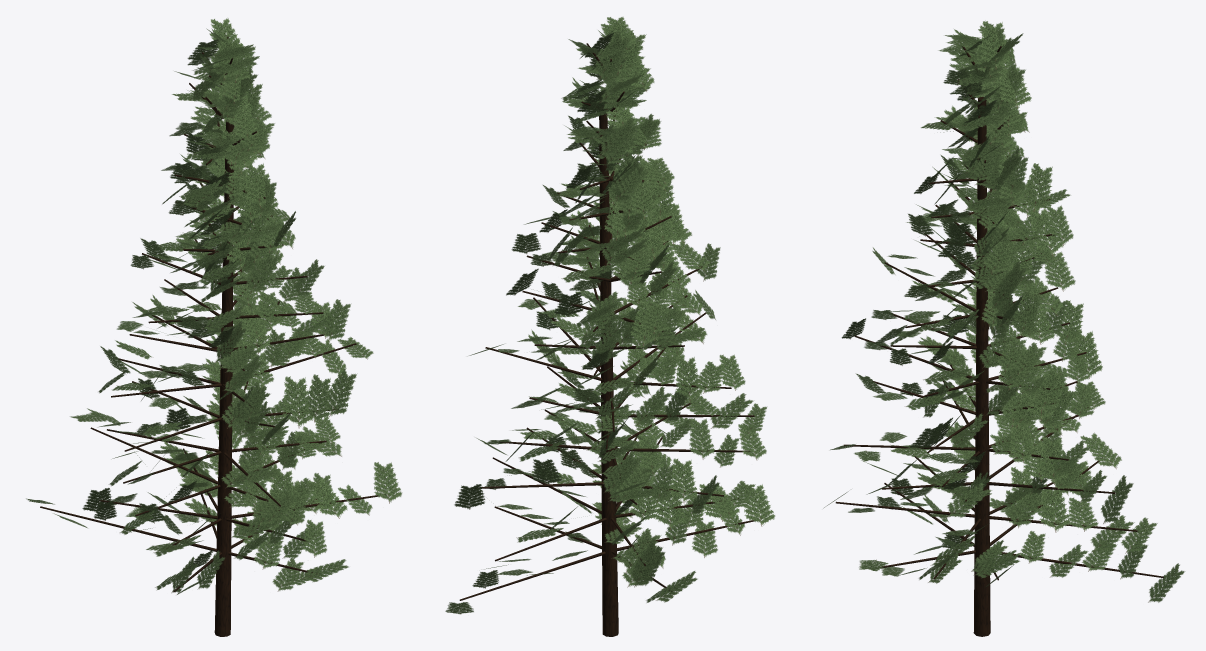
Rendered from spruce_near.glb.
3 views of the same model, side by side, from view 1: azimuth 30°, elevation 25°; view 2: azimuth 150°, elevation 25°; view 3: azimuth 270°, elevation 25° (orthographic).
Parts seen in each view (by area): view 1: spruce_near; view 2: spruce_near; view 3: spruce_near.
Boxes of the visible parts, box(x1,y1,x2,y2) form: spruce_near: box(26, 18, 402, 636); spruce_near: box(445, 17, 775, 636); spruce_near: box(823, 21, 1185, 636).
Size of the model in its own units: 7.37 by 13.62 by 7.7.
Materials: 2 (2 with a texture image).
